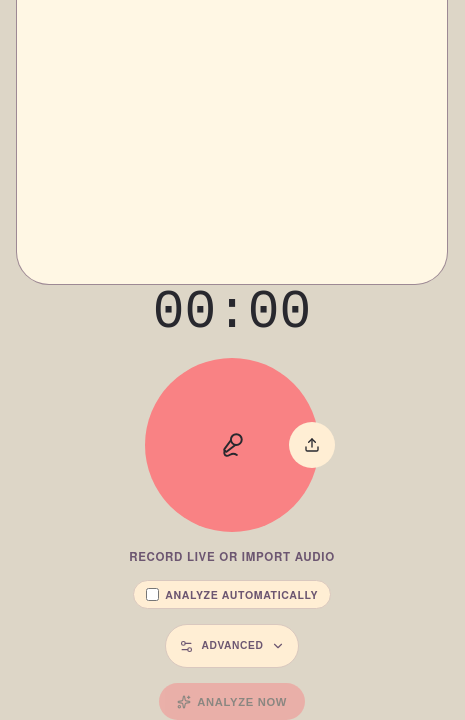
Scenario: Recorder › advanced options › hides detection profile in advanced section
(page scrolled)
Expected: the text "guitar mode is locked in for now" is not shown
What coordinates should you click on to do the following:
click the button with aria-label "show advanced options"
I would click on:
 (232, 646)
Its box is [165,624,299,668].
(page scrolled)
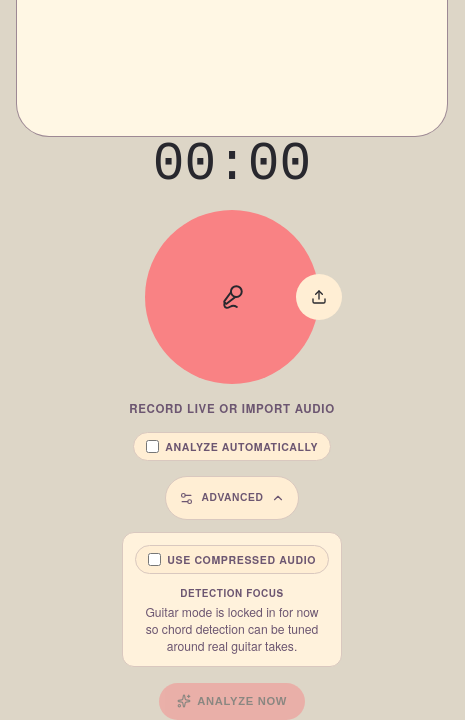
Expected: the text "Guitar mode is locked in for now" is shown, [145,603,319,654]
